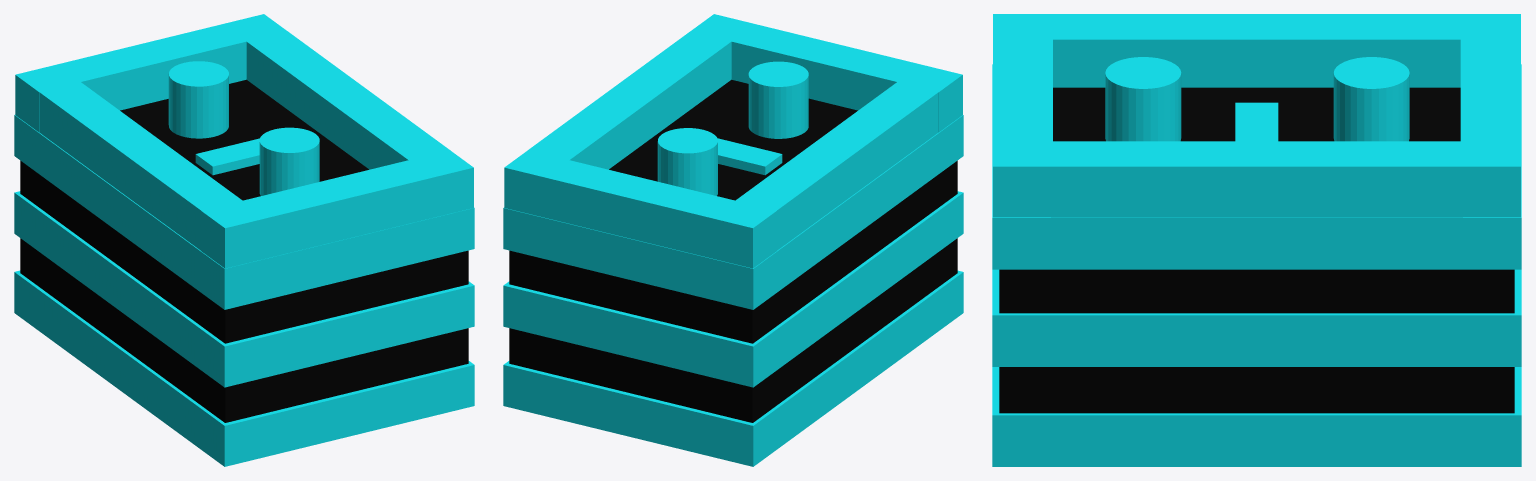
File: akumulator.fbx
3 renders of one model, left to right at view 1: azimuth 30°, elevation 25°; view 2: azimuth 150°, elevation 25°; view 3: azimuth 270°, elevation 25°, orthographic. The views are drawn at different scales.
Visible parts, largest first — view 1: Cube, Cube.001, Cube.003, Cube.002, Куб, Куб.003, Куб.002, Куб.001, Цилиндр.001, Цилиндр, Куб.004; view 2: Cube, Cube.001, Cube.003, Cube.002, Куб.001, Куб.003, Куб.002, Куб, Цилиндр, Цилиндр.001, Куб.004; view 3: Cube, Куб.002, Cube.003, Cube.001, Cube.002, Куб.003, Куб.001, Куб, Цилиндр, Цилиндр.001, Куб.004.
Boxes of the visible parts, <box> form: Cube: <box>20,79,468,422</box>; Cube.001: <box>14,191,474,387</box>; Cube.003: <box>14,270,474,466</box>; Cube.002: <box>14,115,474,309</box>; Куб: <box>201,150,473,268</box>; Куб.003: <box>39,82,242,250</box>; Куб.002: <box>246,31,450,169</box>; Куб.001: <box>15,14,287,132</box>; Цилиндр.001: <box>168,61,228,138</box>; Цилиндр: <box>259,127,319,195</box>; Куб.004: <box>195,138,259,175</box>; Cube: <box>509,79,957,422</box>; Cube.001: <box>503,191,963,387</box>; Cube.003: <box>503,270,963,466</box>; Cube.002: <box>503,115,963,309</box>; Куб.001: <box>504,150,776,268</box>; Куб.003: <box>735,81,938,250</box>; Куб.002: <box>527,31,731,169</box>; Куб: <box>691,14,962,131</box>; Цилиндр: <box>748,61,808,138</box>; Цилиндр.001: <box>657,128,717,195</box>; Куб.004: <box>717,138,782,175</box>; Cube: <box>999,87,1514,413</box>; Куб.002: <box>1051,141,1462,217</box>; Cube.003: <box>992,367,1521,466</box>; Cube.001: <box>992,269,1521,366</box>; Cube.002: <box>992,64,1521,269</box>; Куб.003: <box>1051,14,1460,87</box>; Куб.001: <box>1460,14,1520,217</box>; Куб: <box>993,14,1052,217</box>; Цилиндр: <box>1105,57,1181,141</box>; Цилиндр.001: <box>1333,57,1409,141</box>; Куб.004: <box>1235,102,1278,141</box>.
Size of the model in its own units: 141 by 136 by 205.
